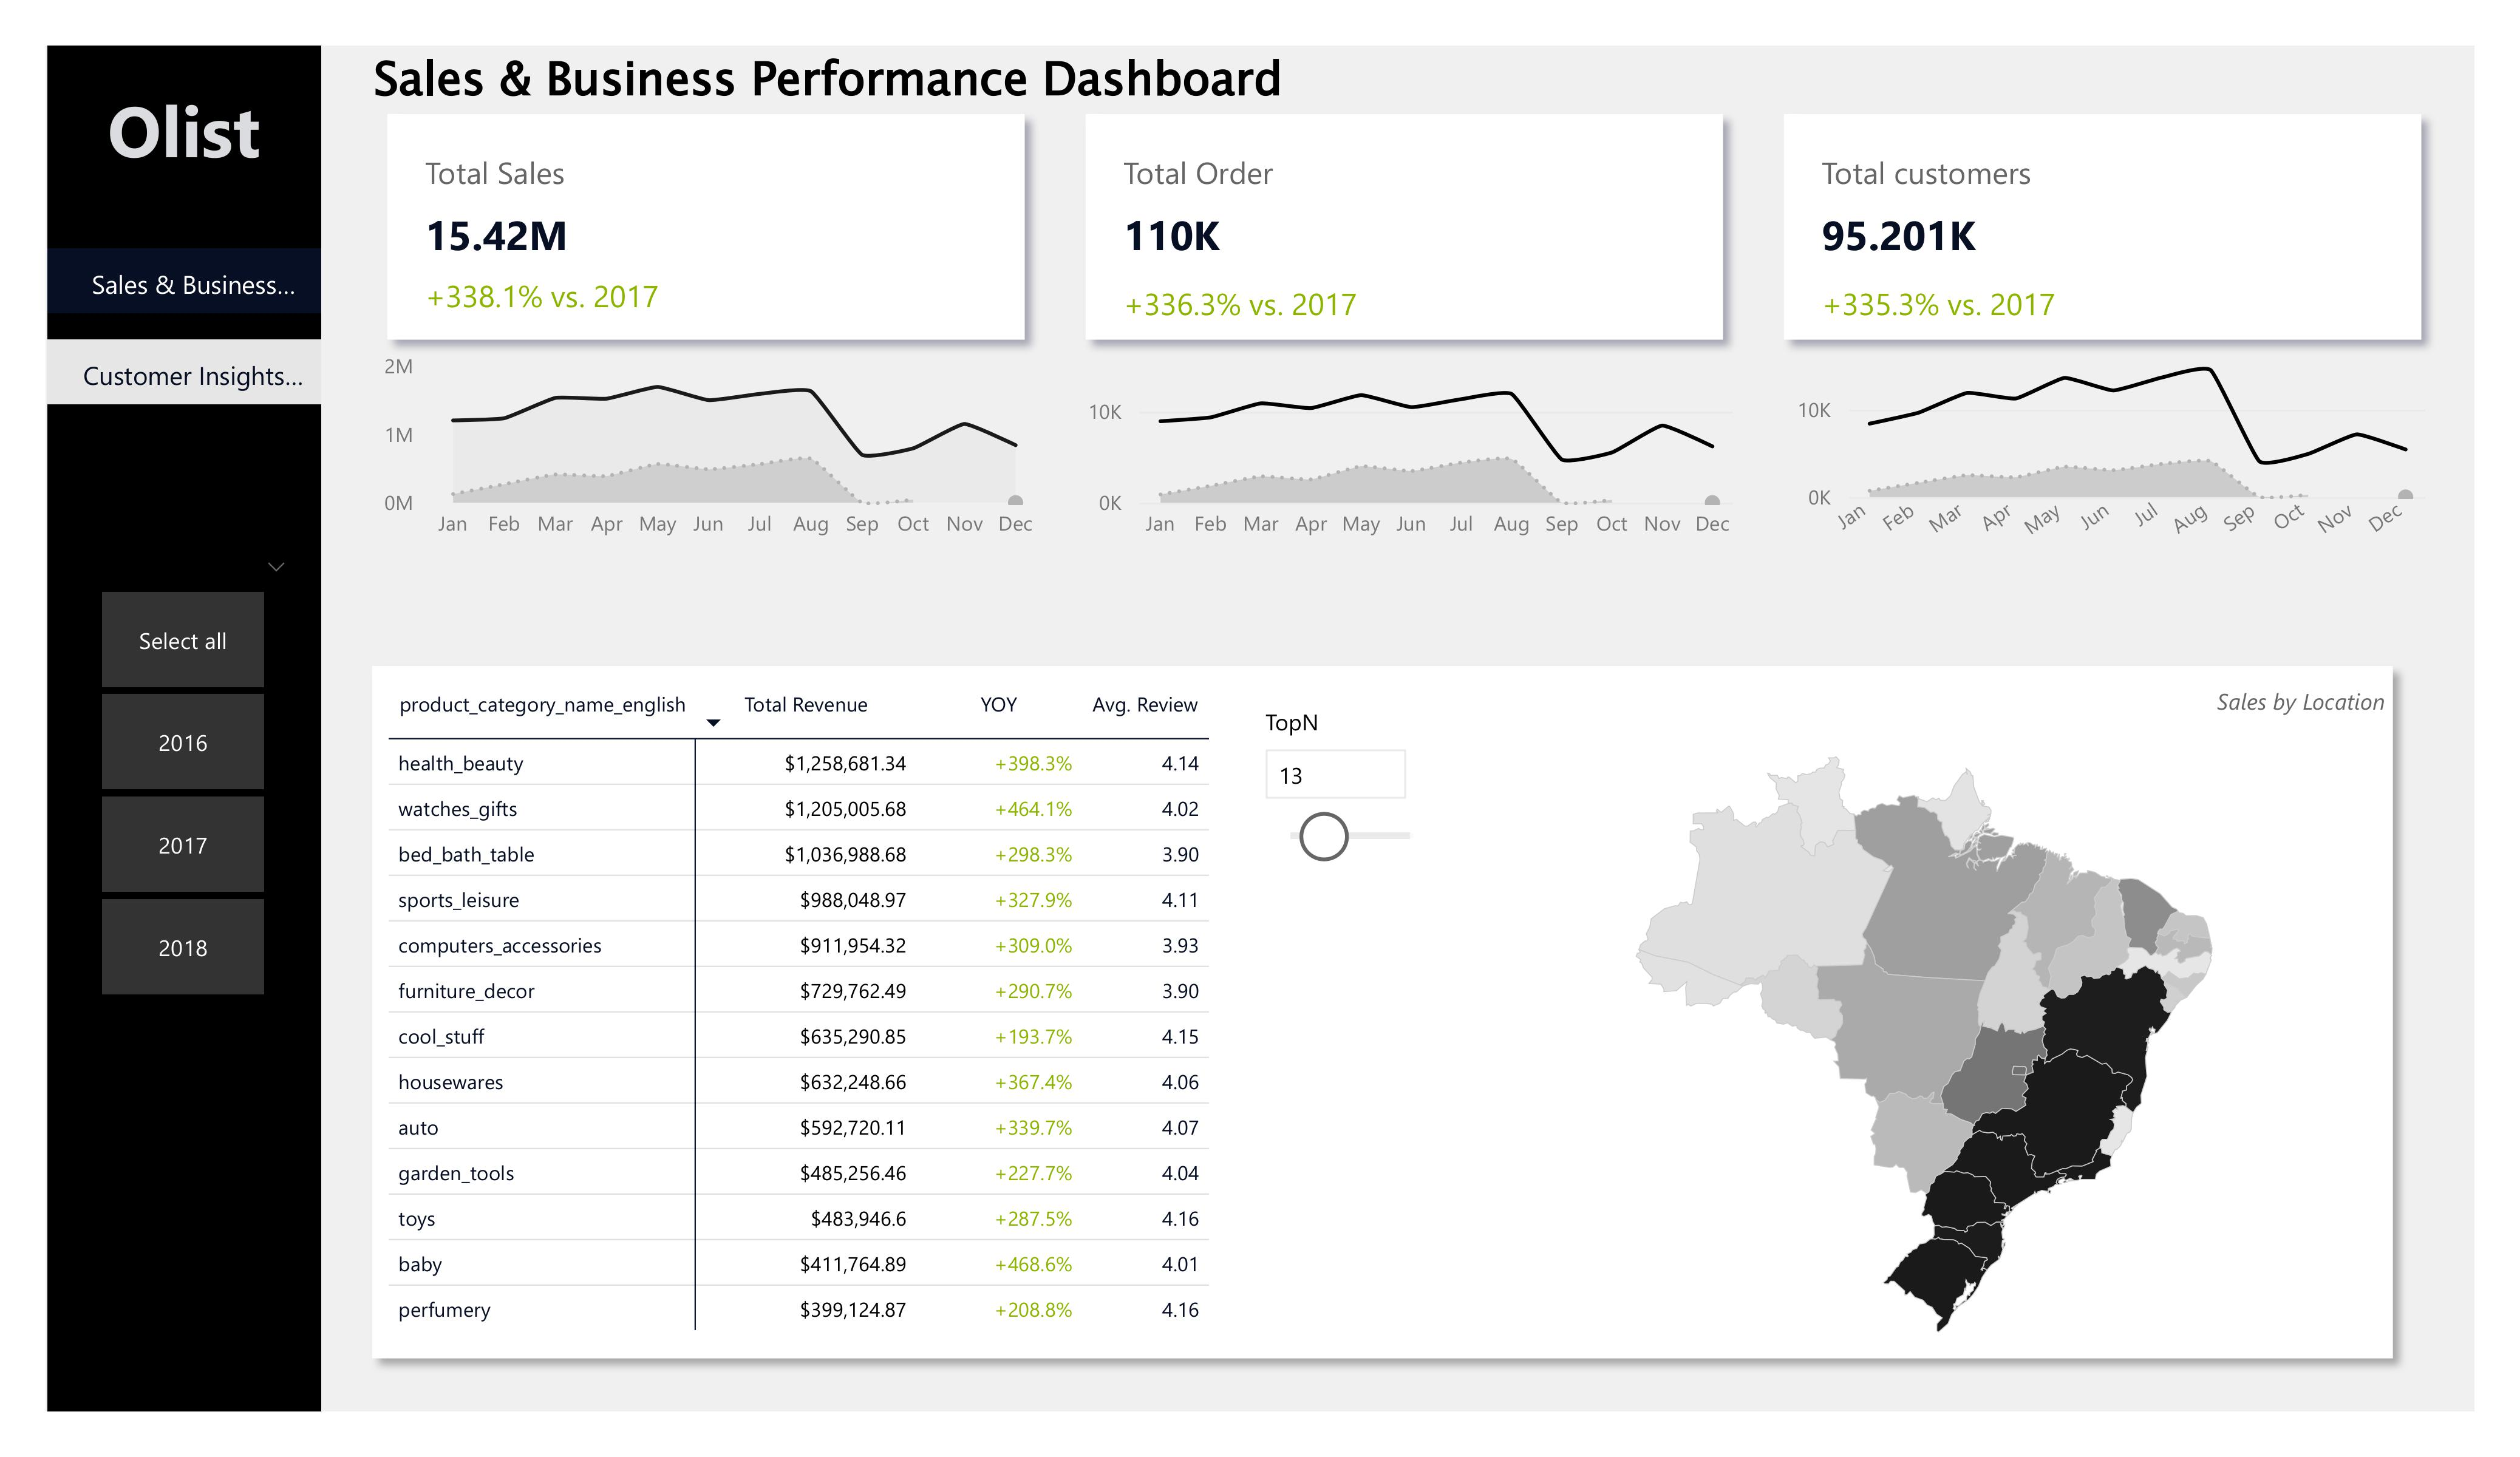

What the dashboard file says about the page in this screenshot:
{"tool":"powerbi","page":{"name":"Sales & Business Performance Dashboard","canvas":[1280,720],"ordinal":0},"visuals":[{"type":"shape","box":[1,0,144.4,720],"z":0},{"type":"shape","box":[154.5,317.9,1115.1,383.7],"z":1000},{"type":"pivotTable","fields":{"Values":["Sum(products.total_revenue)","All Measures.format yoy","Avg(products.avg_review_score)"],"Rows":["products.product_category_name_english"]},"box":[176,329.7,485.3,357.9],"z":2000},{"type":"shapeMap","title":"Sales by Location","fields":{"Value":["Sum(Region.total_sales)"],"Category":["Region.Custom"]},"box":[742,336.3,520.7,364.4],"z":3000},{"type":"slicer","fields":{"Values":["TopN.TopN"]},"box":[647.1,339.8,111.5,90.4],"z":4000},{"type":"shape","title":"Sales & Business Performance Dashboard","box":[172.7,0,1092.7,37.1],"z":5000},{"type":"slicer","fields":{"Values":["Date.Year"]},"box":[3.9,263.4,135,244],"z":6000},{"type":"cardVisual","fields":{"Data":["All Measures.Total Sales","All Measures.Total Order","All Measures.Total customers"]},"box":[162.4,36.9,1107.2,135.2],"z":7000},{"type":"lineChart","fields":{"Y":["All Measures.Total Order","All Measures.Orders PY"],"Category":["Date.MonthName"]},"box":[535.6,155.4,360,140.5],"z":8000},{"type":"stackedAreaChart","fields":{"Y":["All Measures.Customers PY","All Measures.Total customers"],"Category":["Date.MonthName"]},"box":[903.5,155.4,360,140.5],"z":9000},{"type":"lineChart","fields":{"Y":["All Measures.Total Sales","All Measures.Sales PY"],"Category":["Date.MonthName"]},"box":[166.8,155.4,360.9,140.5],"z":10000},{"type":"pageNavigator","box":[4,105,141,93],"z":11000}]}

Visuals, with their boxes on the page's 1280x720 design canvas (x1, y1, x2, y2). These are canvas units, not pixel positions in the 2520x1457 screenshot, which may show the page scaled, cropped or inside an application window:
shape: 1,0,145,720
shape: 154,318,1270,702
pivotTable - Sum(products.total_revenue) x All Measures.format yoy: 176,330,661,688
"Sales by Location" shapeMap: 742,336,1263,701
slicer - TopN.TopN: 647,340,759,430
"Sales & Business Performance Dashboard" shape: 173,0,1265,37
slicer - Date.Year: 4,263,139,507
cardVisual - All Measures.Total Sales x All Measures.Total Order: 162,37,1270,172
lineChart - All Measures.Total Order x All Measures.Orders PY: 536,155,896,296
stackedAreaChart - All Measures.Customers PY x All Measures.Total customers: 904,155,1264,296
lineChart - All Measures.Total Sales x All Measures.Sales PY: 167,155,528,296
pageNavigator: 4,105,145,198
